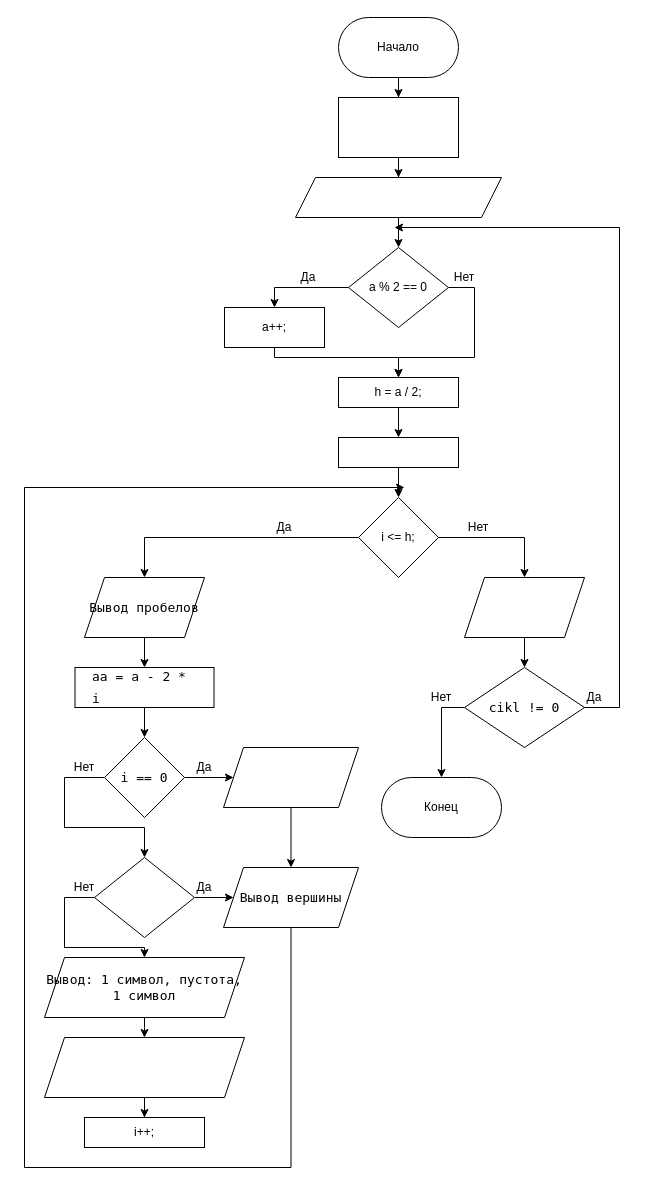
Some shapes in this 645 by 1193 pixel diagram are drawn without their labels. The shapes that lost their labels are listed below. From the top down, each one's centre as x and y in pixels, then its label:
(398,127): char sym; int a; int cikl;
(398,197): Ввод sym и a (scanf)
(398,452): i = 0;
(524,607): Ввод cikl (scanf)
(290,777): Вывод верхней границы
(144,897): aa == 1
(144,1067): Переход на новую строку
